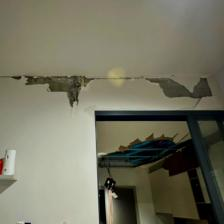High: (1, 62, 223, 110)
